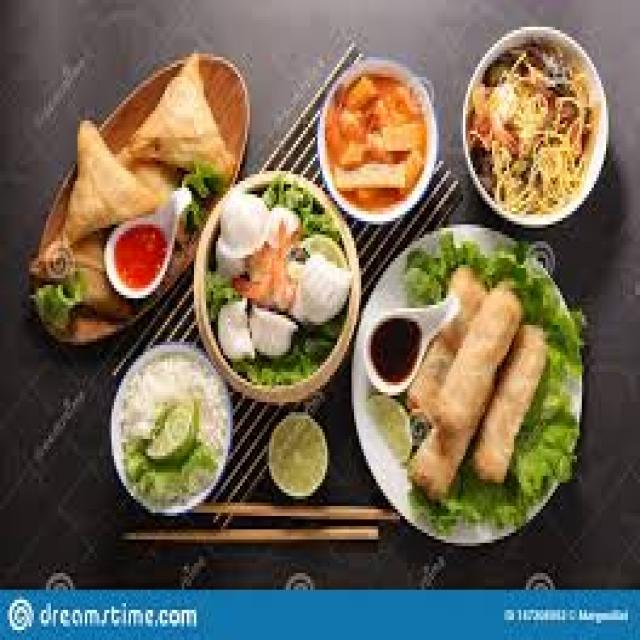Samosa: (27, 40, 223, 315)
Spring Rolls: (412, 258, 538, 509)
White Rice: (121, 348, 223, 446)
